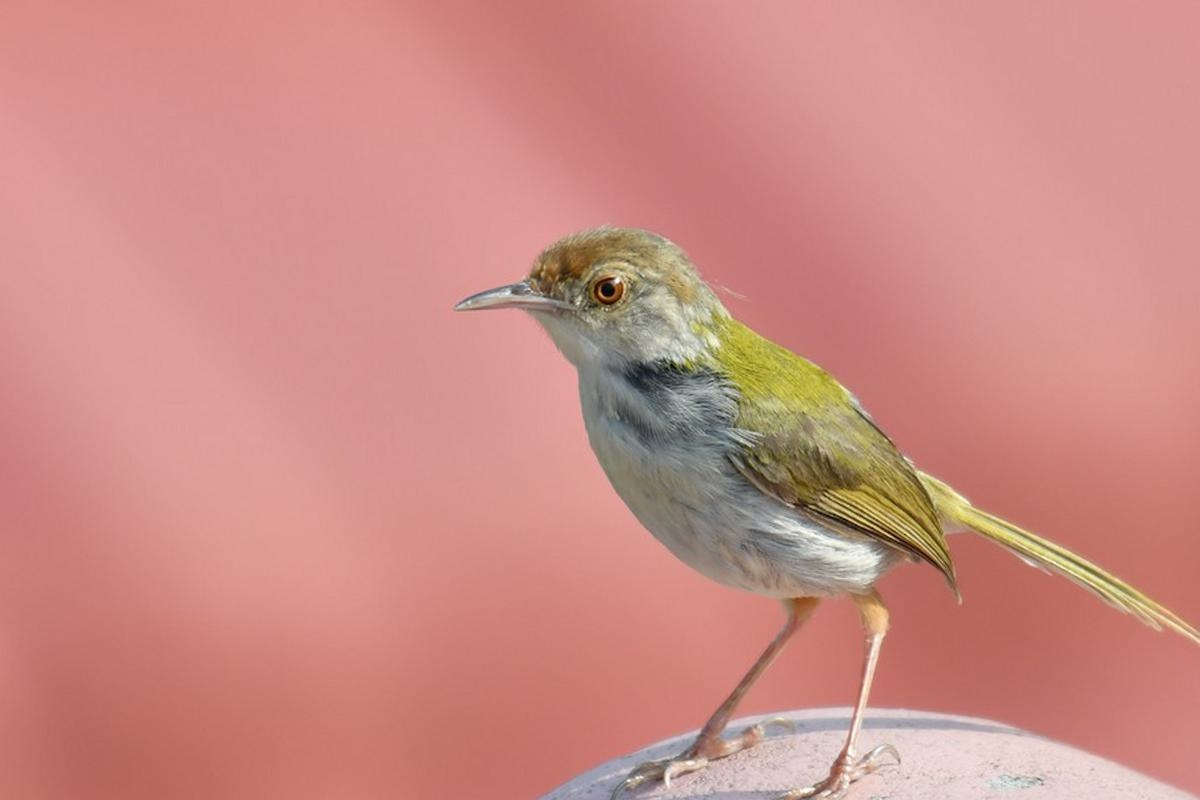tailorbird: (424, 192, 1127, 734)
